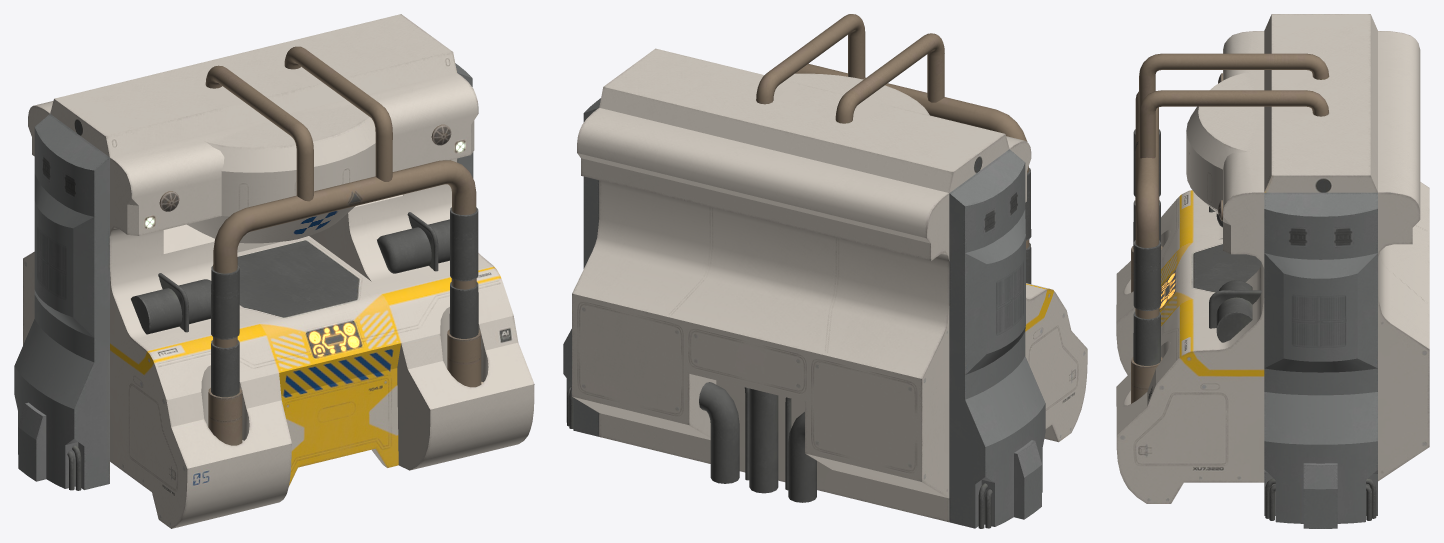
File: replicator.glb
3 views of the same model, side by side, from view 1: azimuth 30°, elevation 25°; view 2: azimuth 150°, elevation 25°; view 3: azimuth 270°, elevation 25° (orthographic). The views are drawn at different scales.
Parts seen in each view (by area): view 1: MainBody_low, SideDetail_low, FrontTube_low, BodyTank01_low, FrontTank02_low, Vent01_low; view 2: MainBody_low, SideDetail_low, FrontTube_low, BackTubes02_low, BackTubes01_low, BackTubes03_low; view 3: MainBody_low, SideDetail_low, FrontTube_low, BodyTank01_low, FrontTank02_low, SideTubes01_low, SideTubes02_low.
Boxes of the visible parts, x1=… form: MainBody_low: x1=23, y1=14, x2=534, y2=528; SideDetail_low: x1=14, y1=63, x2=473, y2=489; FrontTube_low: x1=205, y1=46, x2=481, y2=445; BodyTank01_low: x1=131, y1=219, x2=449, y2=334; FrontTank02_low: x1=158, y1=212, x2=438, y2=332; Vent01_low: x1=159, y1=124, x2=451, y2=211; MainBody_low: x1=572, y1=48, x2=1087, y2=522; SideDetail_low: x1=563, y1=98, x2=1045, y2=528; FrontTube_low: x1=756, y1=14, x2=1031, y2=283; BackTubes02_low: x1=699, y1=382, x2=816, y2=502; BackTubes01_low: x1=749, y1=388, x2=778, y2=493; BackTubes03_low: x1=744, y1=387, x2=791, y2=490; MainBody_low: x1=1116, y1=14, x2=1429, y2=503; SideDetail_low: x1=1264, y1=192, x2=1377, y2=528; FrontTube_low: x1=1131, y1=53, x2=1329, y2=403; BodyTank01_low: x1=1216, y1=213, x2=1252, y2=342; FrontTank02_low: x1=1209, y1=206, x2=1261, y2=328; SideTubes01_low: x1=1265, y1=478, x2=1376, y2=518; SideTubes02_low: x1=1269, y1=485, x2=1371, y2=520.
Size of the model in its own units: 3.09 by 2.39 by 1.94.
Materials: 1 (1 with a texture image).
